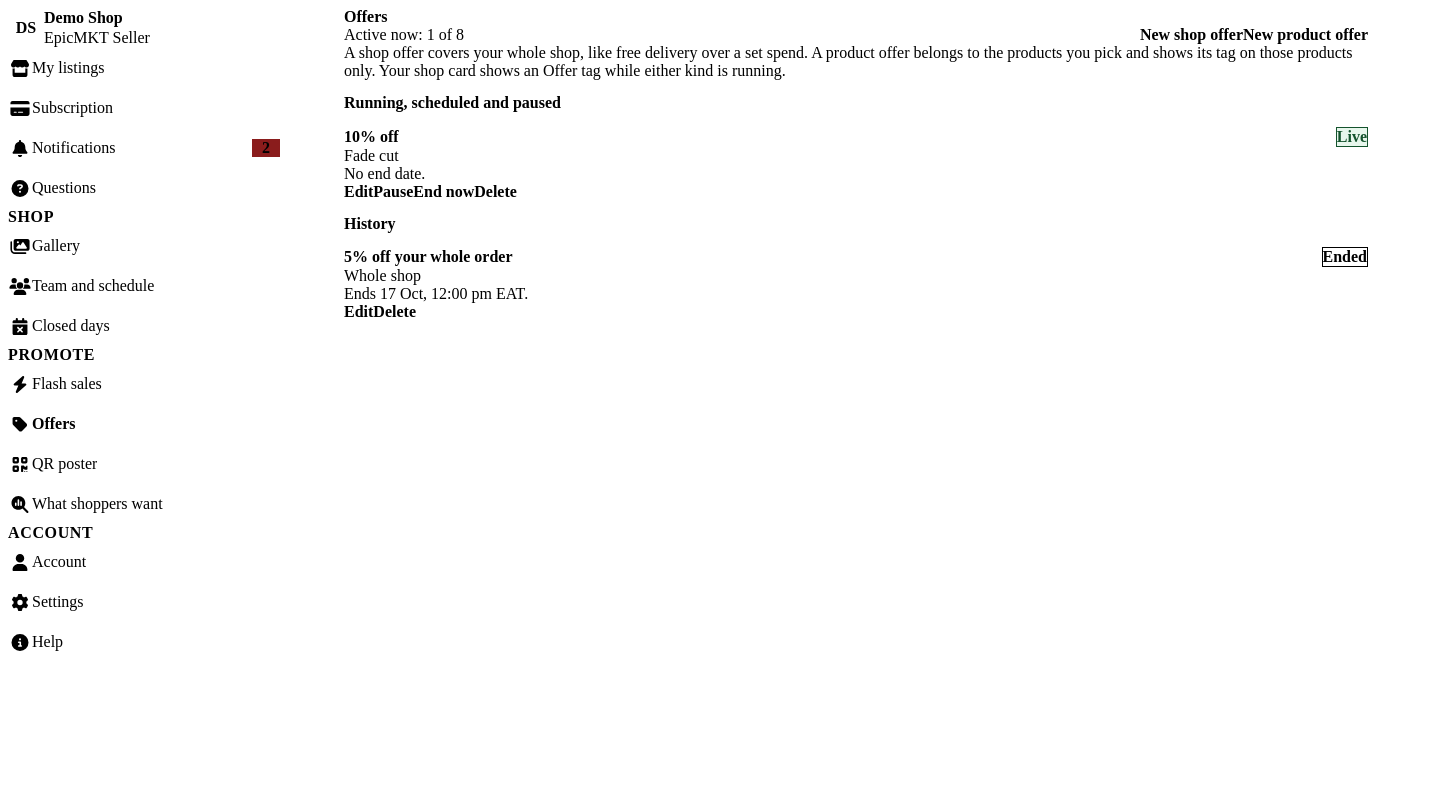
seller offers › deletes a running offer and an ended one after a confirmation
The width and height of the screenshot is (1440, 803).
Expected: the number of list items with test id "offer-row" is 2, [344, 126, 1368, 200]; [344, 247, 1368, 321]
Click the button "Delete" below "10% off". click: {"x": 496, "y": 192}
box: [474, 182, 517, 200]
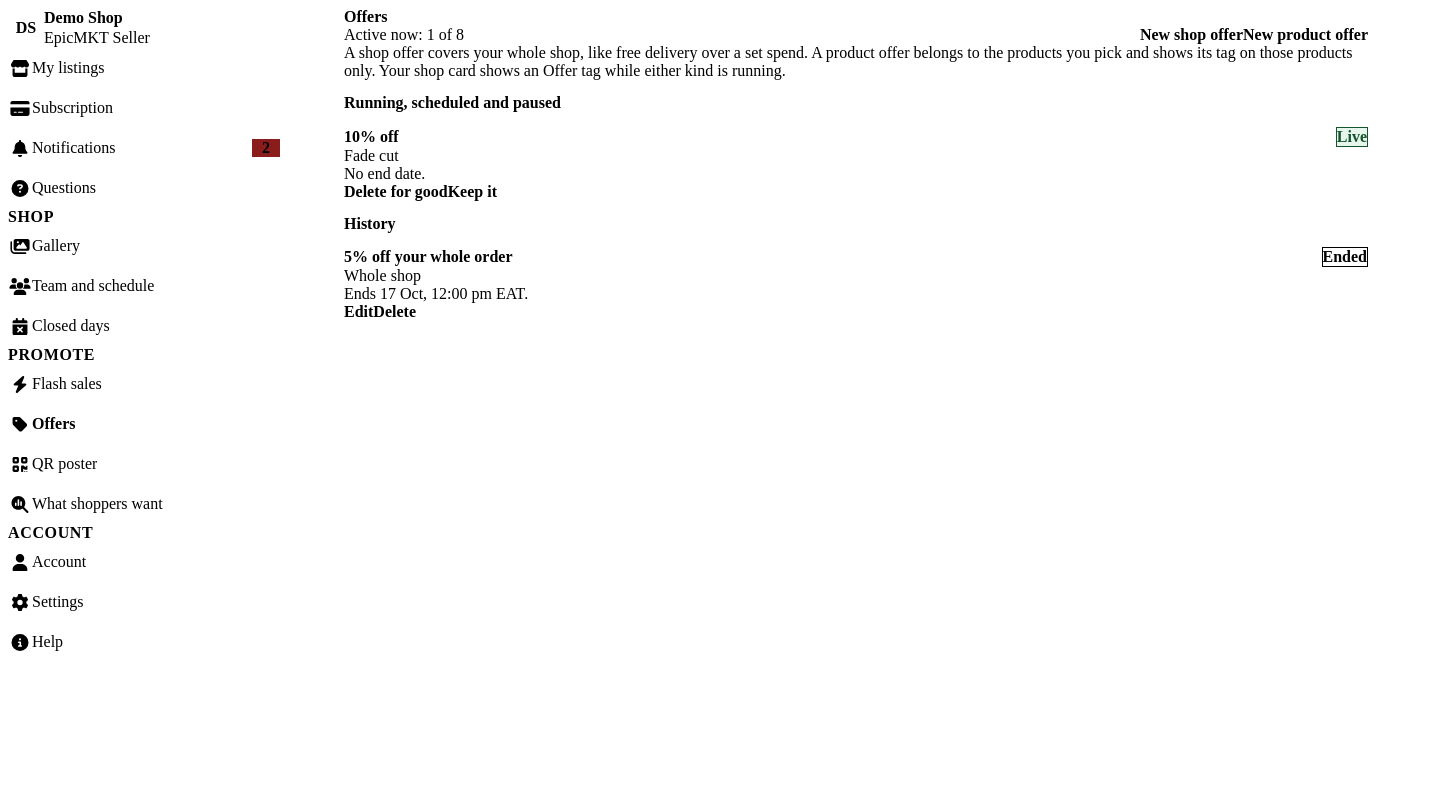
Click the button "Delete for good". click: {"x": 396, "y": 192}
box: [344, 182, 448, 200]
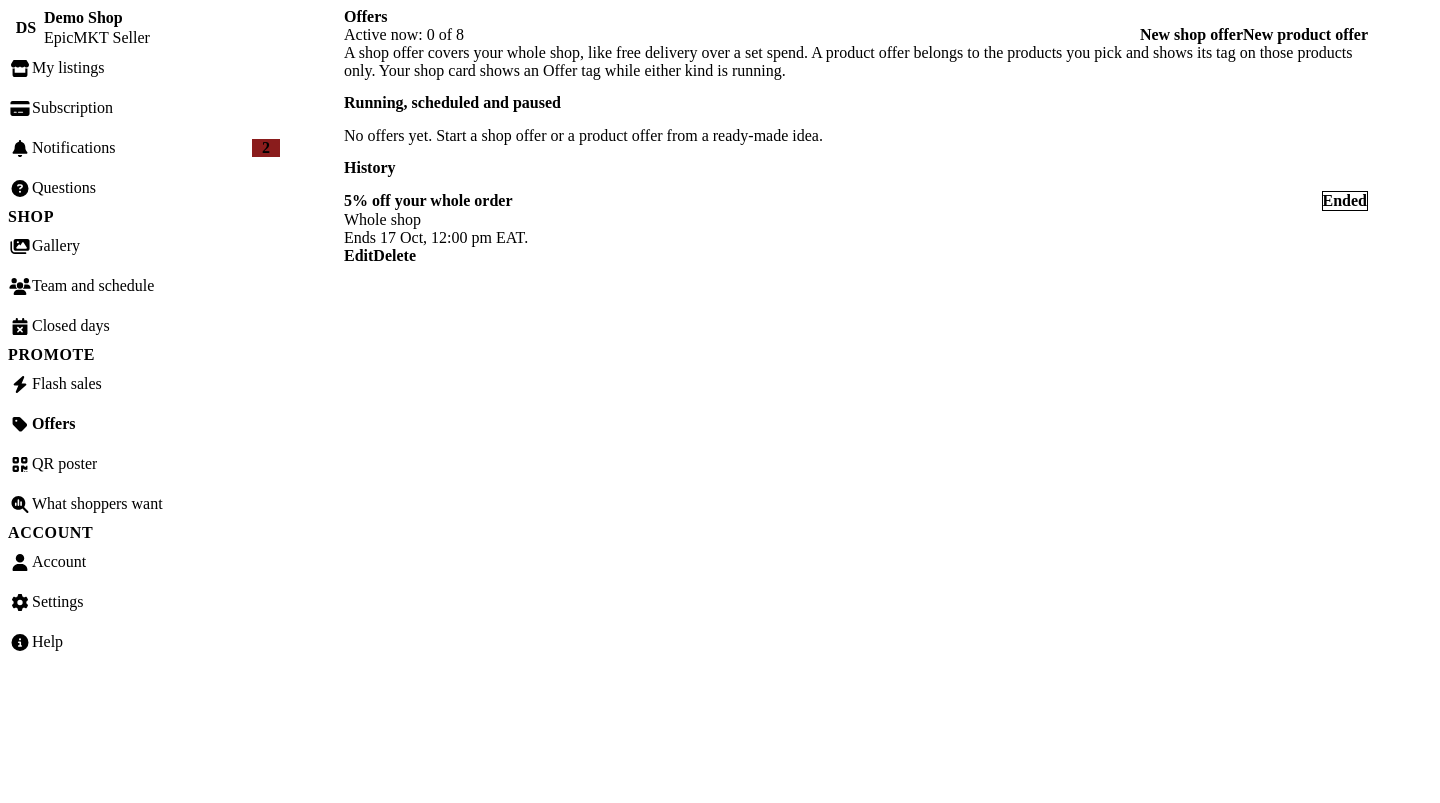
Result: the number of list items with test id "offer-row" is 1 at [344, 191, 1368, 265]
Click the button "Delete". click: {"x": 395, "y": 256}
box: [373, 247, 416, 265]
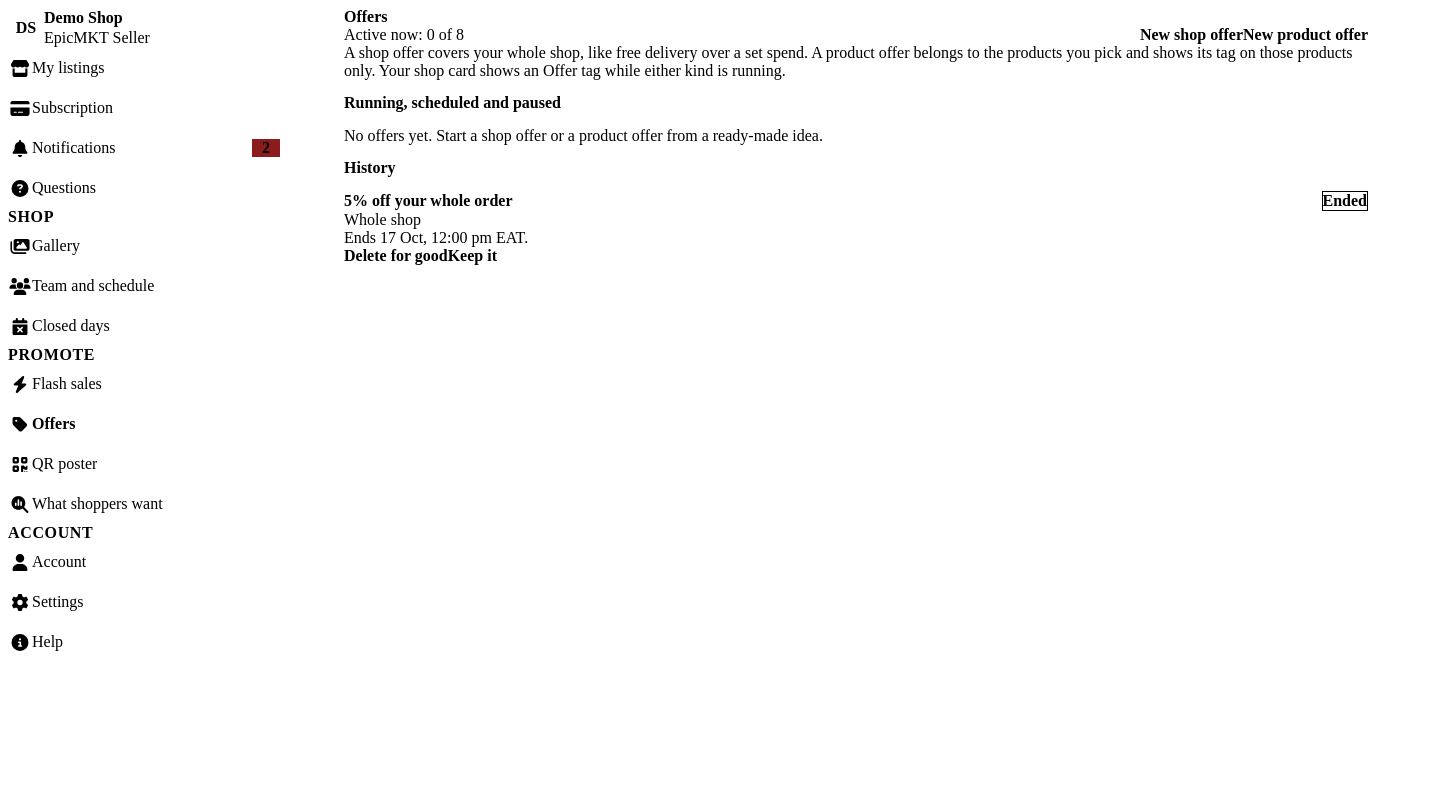
Click the button "Delete for good". click: {"x": 396, "y": 256}
box: [344, 247, 448, 265]
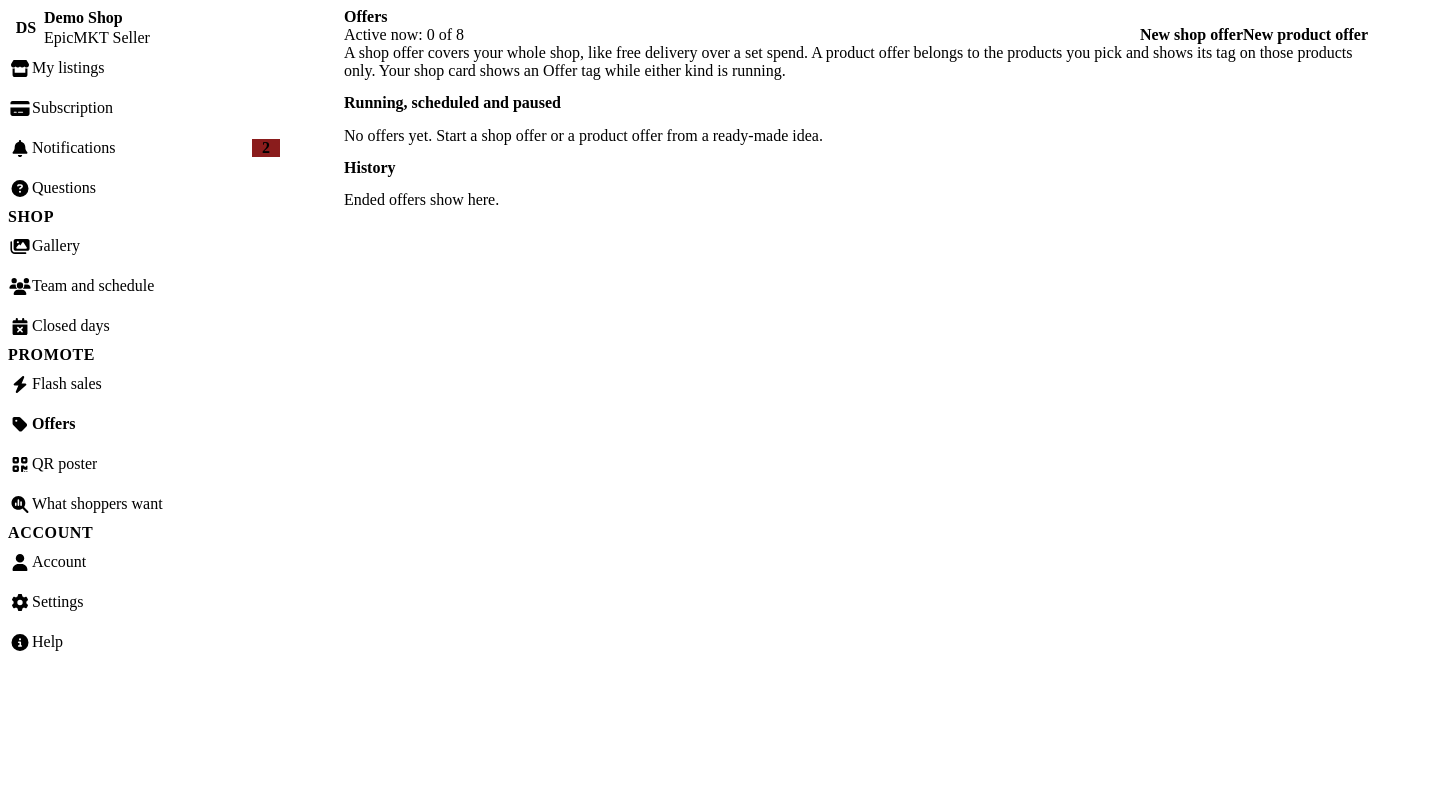
Result: no list items with test id "offer-row" are shown
